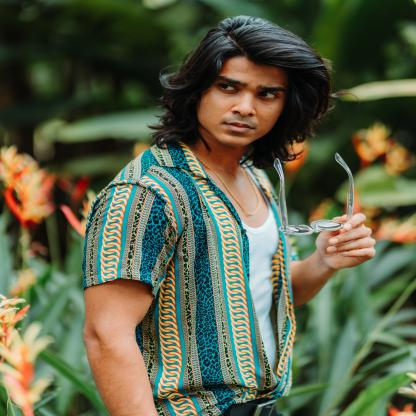Eye: (216, 82, 239, 94), (256, 91, 278, 102)
Mouth: (221, 120, 255, 134)
Nose: (230, 92, 258, 117)
